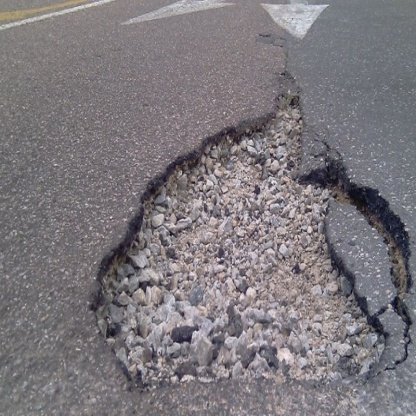pothole: (85, 55, 413, 395)
